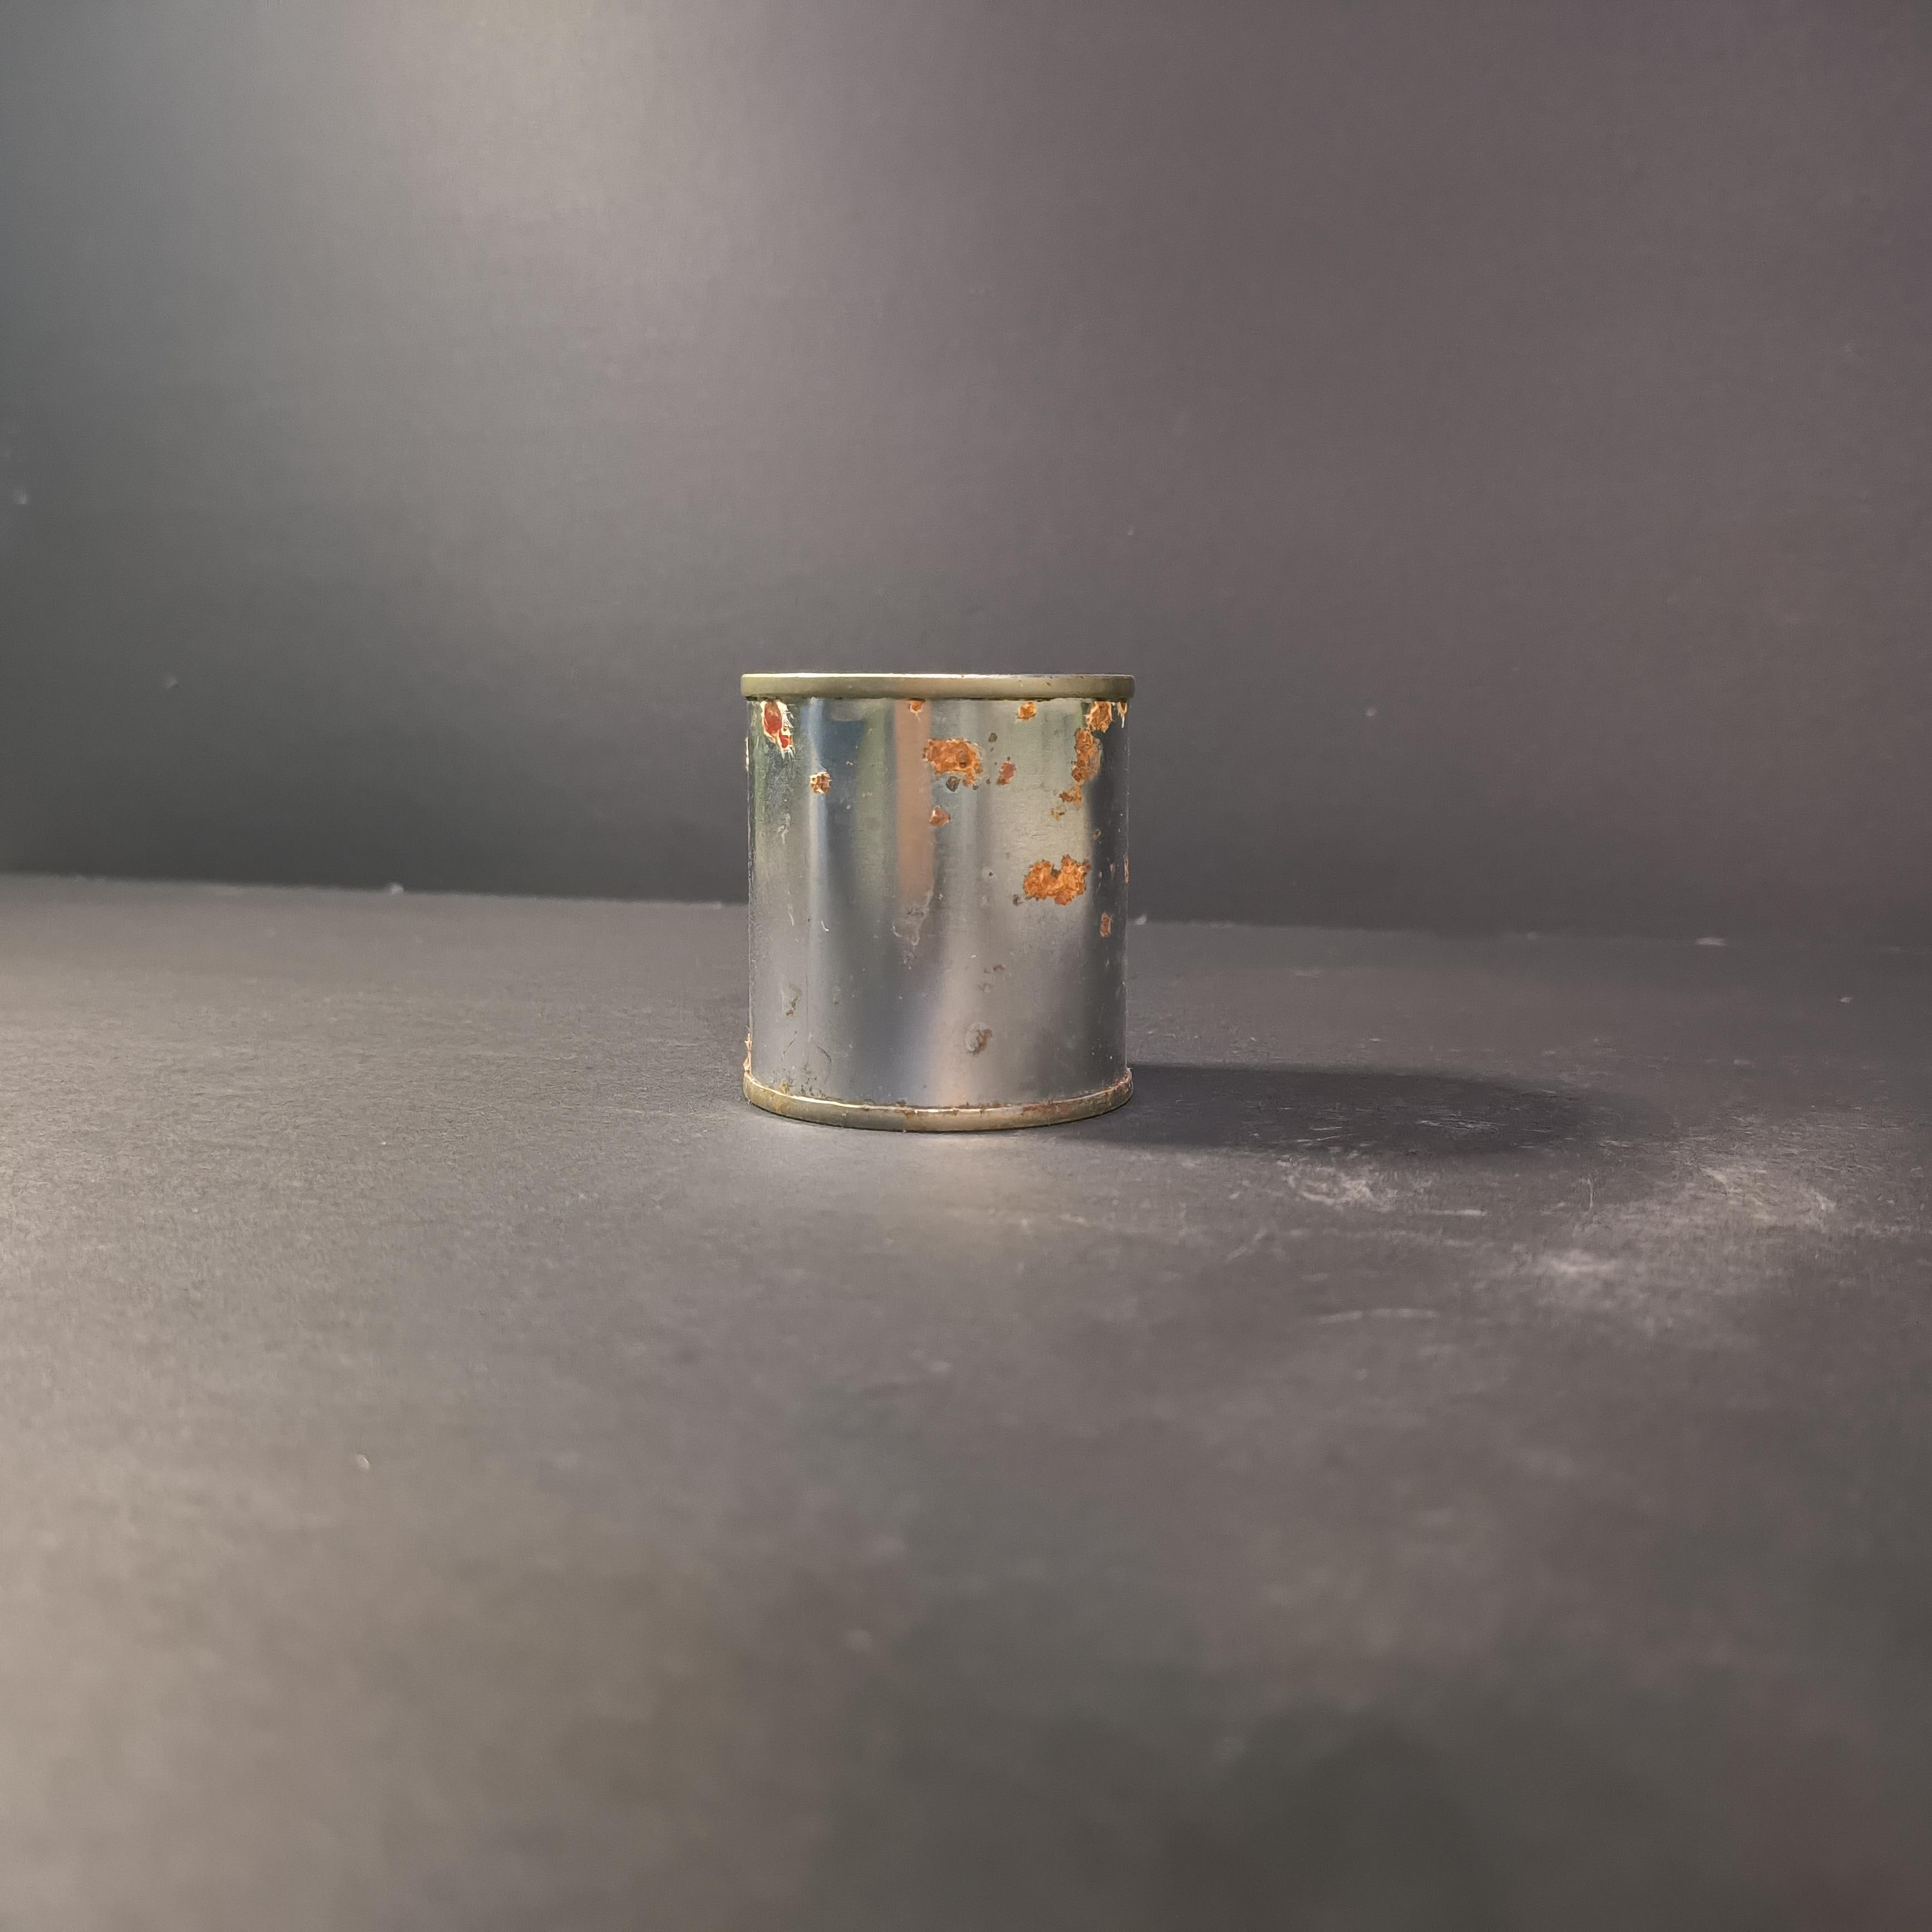Rusted: (725, 655, 1162, 1148)
